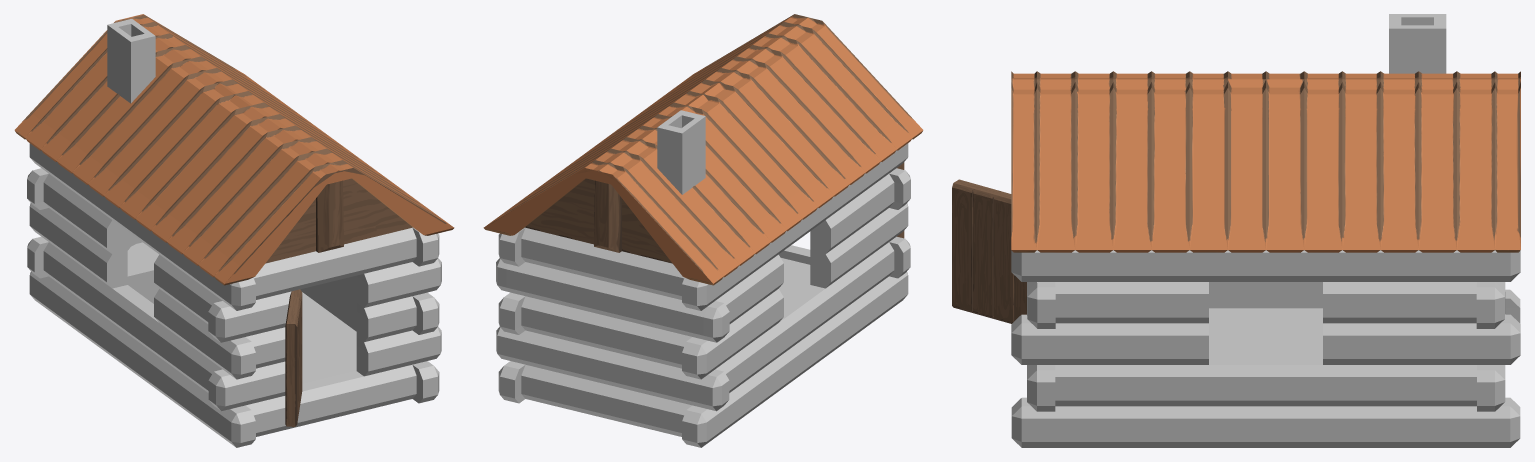
Rendered from Cabin.obj.
3 renders of one model, left to right at view 1: azimuth 30°, elevation 25°; view 2: azimuth 150°, elevation 25°; view 3: azimuth 270°, elevation 25°, orthographic. The views are drawn at different scales.
Visible parts, largest first — view 1: CabinWalls, Roof, Furnace, Doors; view 2: CabinWalls, Roof, Furnace; view 3: CabinWalls, Roof, Doors, Furnace.
Boxes of the visible parts, x1,y1,x2,y2 form: CabinWalls: (27, 143, 441, 447); Roof: (14, 14, 454, 285); Furnace: (107, 19, 158, 303); Doors: (285, 289, 302, 426); CabinWalls: (496, 143, 910, 447); Roof: (483, 14, 923, 285); Furnace: (657, 110, 705, 194); CabinWalls: (1011, 250, 1520, 447); Roof: (1011, 71, 1520, 252); Doors: (952, 179, 1026, 323); Furnace: (1389, 14, 1446, 73).
Bounding box in the file's own units: 2.81 × 3.32 × 4.97.
